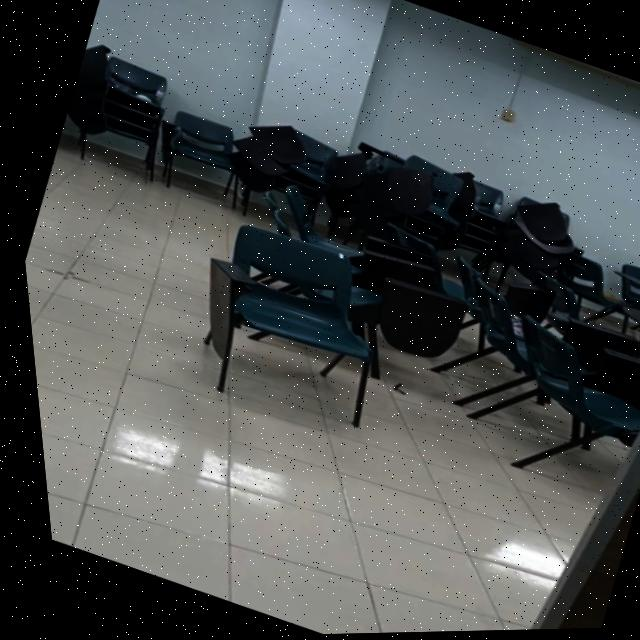sandalye: (198, 227, 374, 429), (160, 113, 232, 196)
